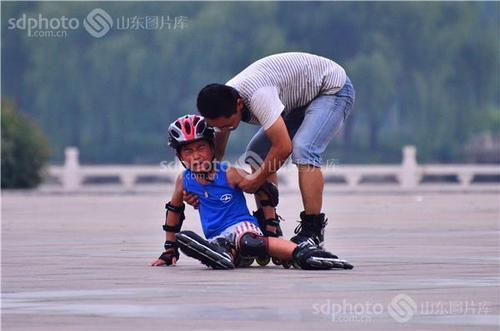Fall-Detected: (148, 112, 343, 274)
